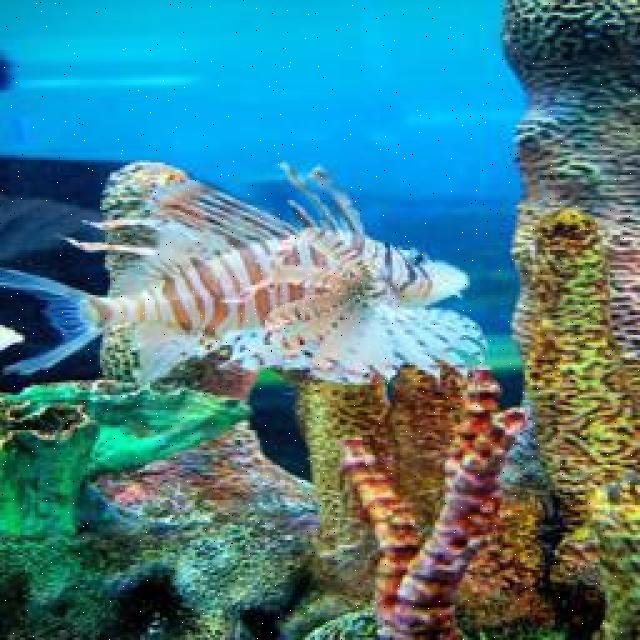fish: (0, 161, 488, 385)
reefs: (337, 371, 526, 638)
